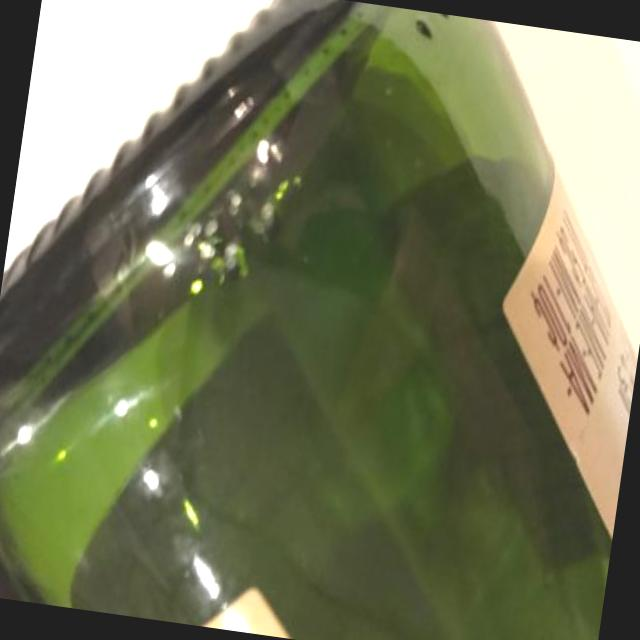chai_thuy_tinh: (0, 0, 612, 640)
